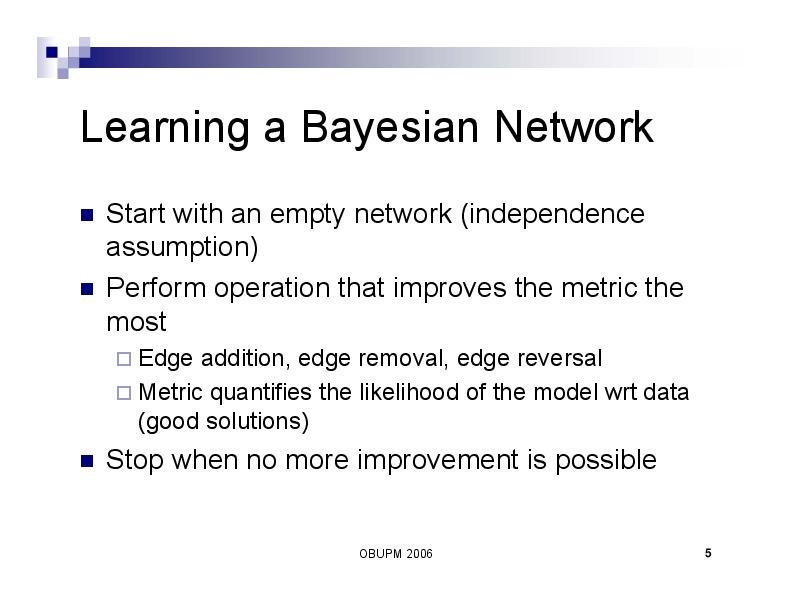paragraph: (97, 200, 729, 483)
title: (76, 104, 656, 157)
